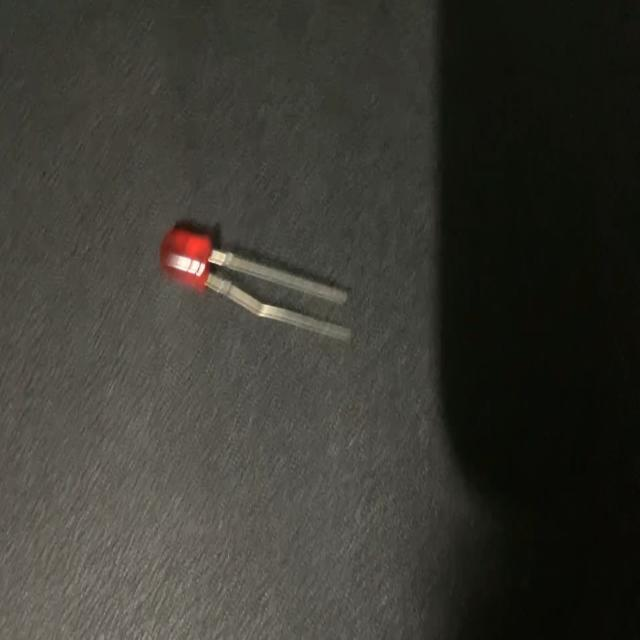LED: (159, 230, 351, 346)
